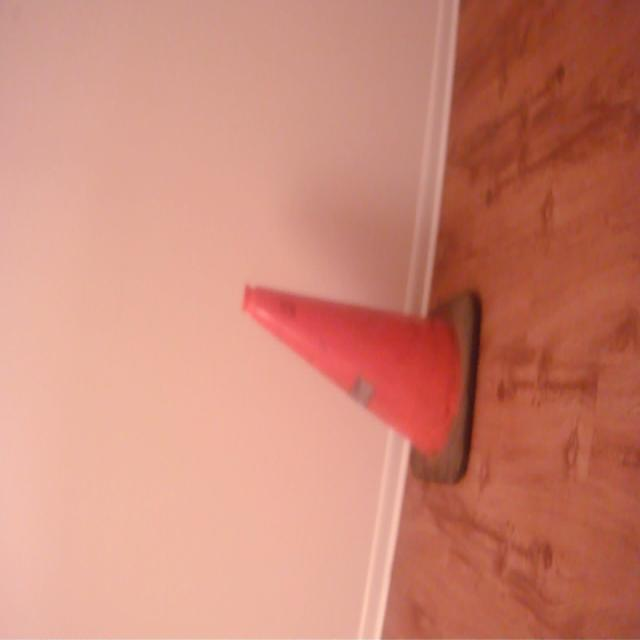traffic cone: (240, 279, 486, 494)
